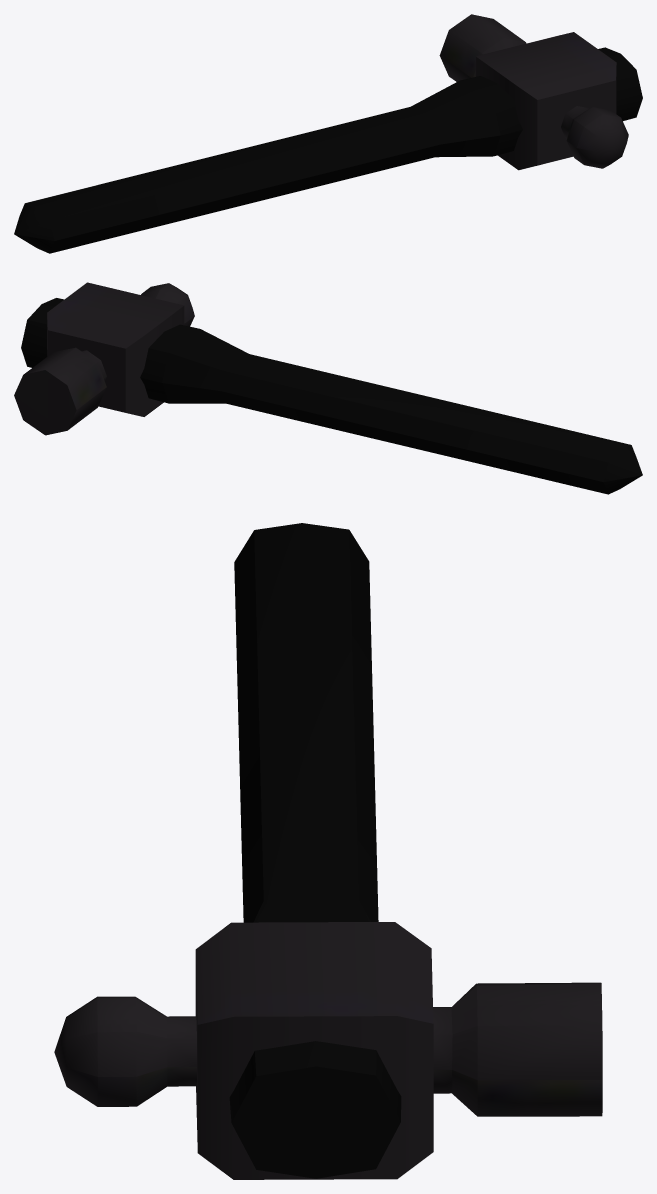
The model's file is o_mdl_env_propHammerA-transformed.glb.
The picture shows the model from 3 angles, top to bottom: view 1: azimuth 30°, elevation 25°; view 2: azimuth 150°, elevation 25°; view 3: azimuth 270°, elevation 25°; orthographic projection. The views are drawn at different scales.
Visible parts, largest first — view 1: default; view 2: default; view 3: default.
Boxes of the visible parts, box(x1,y1,x2,y2) form: default: box(14, 14, 642, 253); default: box(14, 282, 642, 494); default: box(54, 523, 602, 1179).
Size of the model in its own units: 0.4569 by 0.0596 by 0.1815.
1 material, 1 textured.
